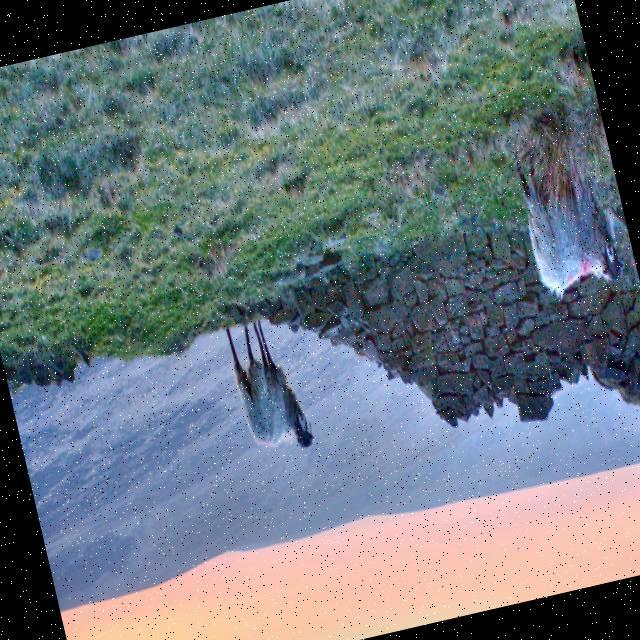sheep: (514, 157, 620, 300), (225, 325, 311, 449)
